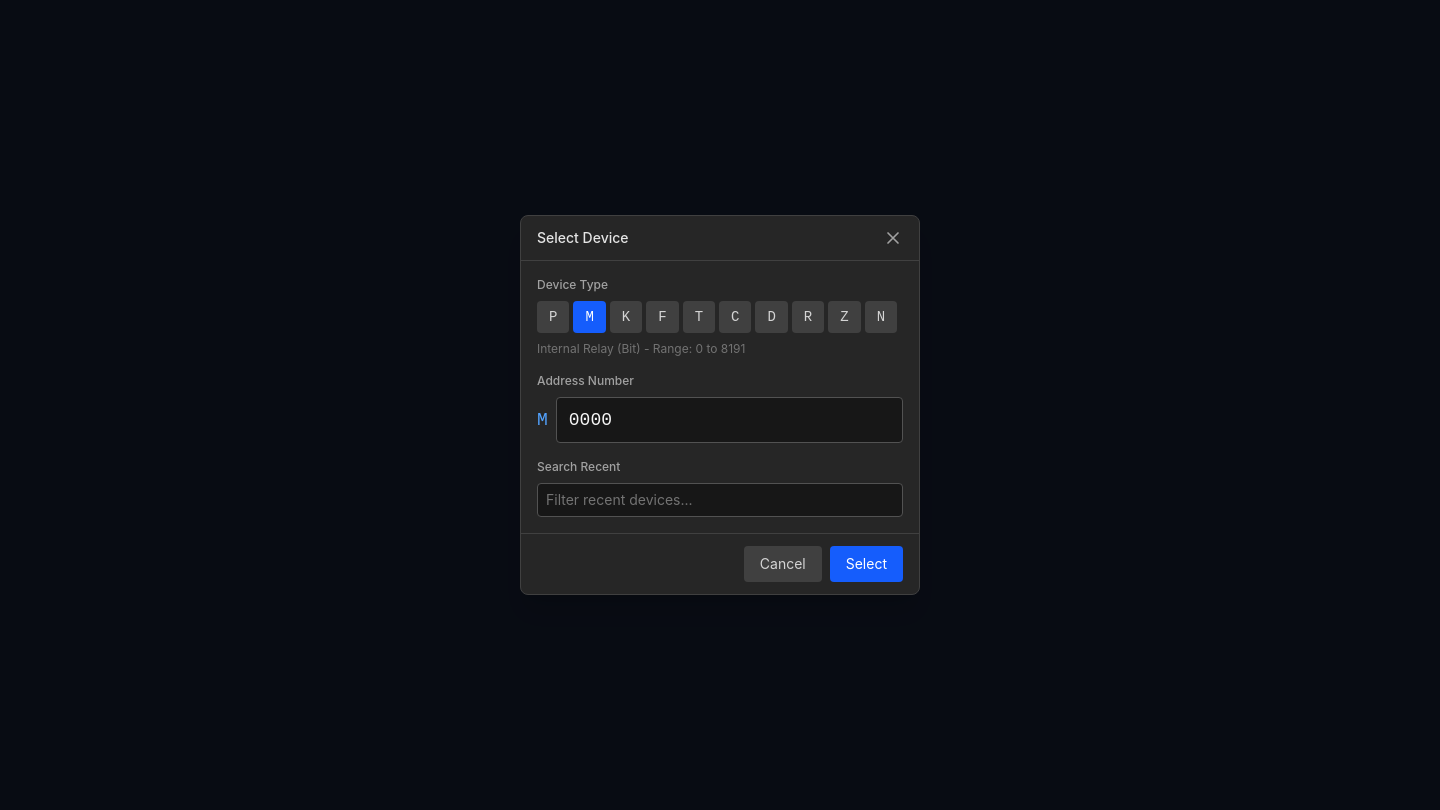
Test: DeviceSelectDialog › Address Input › should strip non-numeric characters
This screenshot has width=1440, height=810.
Type "abc123xyz" into the field labelled "Address Number" at (729, 420), box [556,397,903,443]
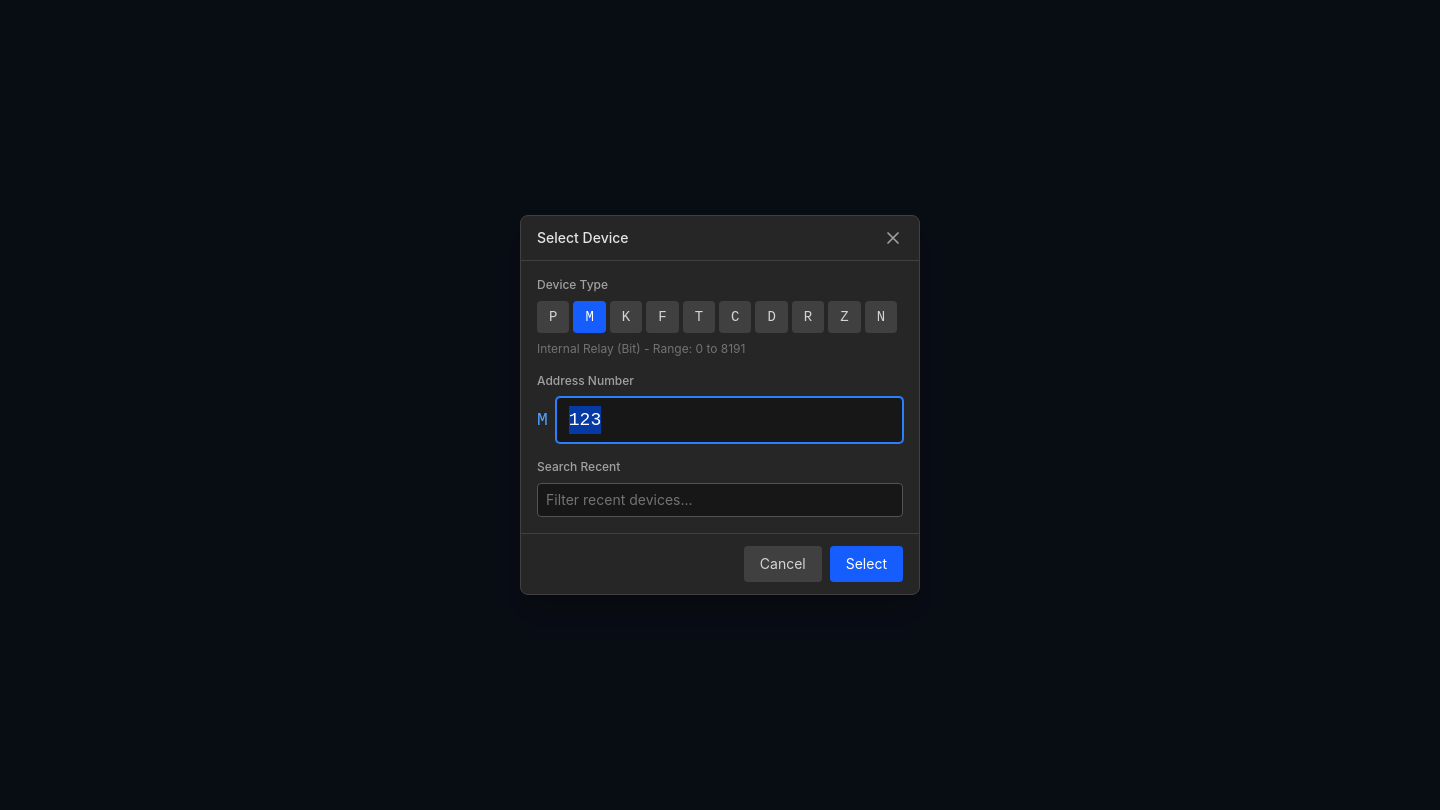
Expected: the field labelled "Address Number" holds "123", [556,397,903,443]
